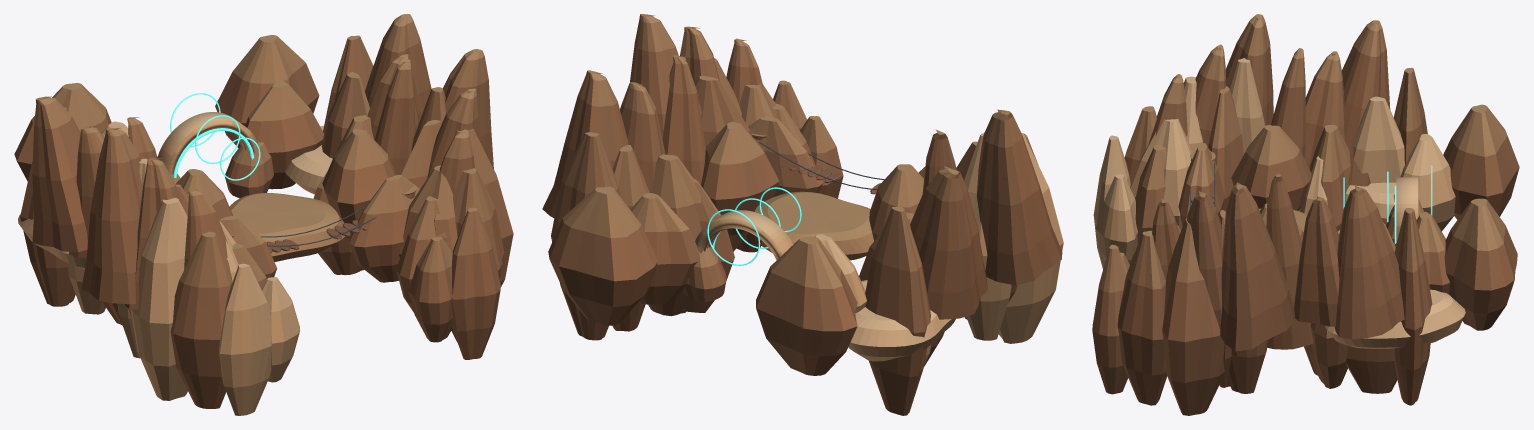
The model's file is wind-canyon-high.glb.
The picture shows the model from 3 angles, left to right: view 1: azimuth 30°, elevation 25°; view 2: azimuth 150°, elevation 25°; view 3: azimuth 270°, elevation 25°; orthographic projection. The views are drawn at different scales.
Parts seen in each view (by area): view 1: CanyonCliffs, WindTunnel, LandingPad, BrokenBridge; view 2: CanyonCliffs, LandingPad, WindTunnel, BrokenBridge; view 3: CanyonCliffs, WindTunnel.
Boxes of the visible parts, box(x1,y1,x2,y2) form: CanyonCliffs: box(14, 14, 513, 415); WindTunnel: box(157, 93, 275, 198); LandingPad: box(229, 193, 344, 261); BrokenBridge: box(231, 185, 416, 253); CanyonCliffs: box(542, 14, 1063, 415); LandingPad: box(754, 191, 873, 260); WindTunnel: box(682, 187, 801, 302); BrokenBridge: box(751, 133, 884, 194); CanyonCliffs: box(1092, 14, 1519, 415); WindTunnel: box(1343, 165, 1432, 246).
Size of the model in its own units: 194 by 109 by 175.
